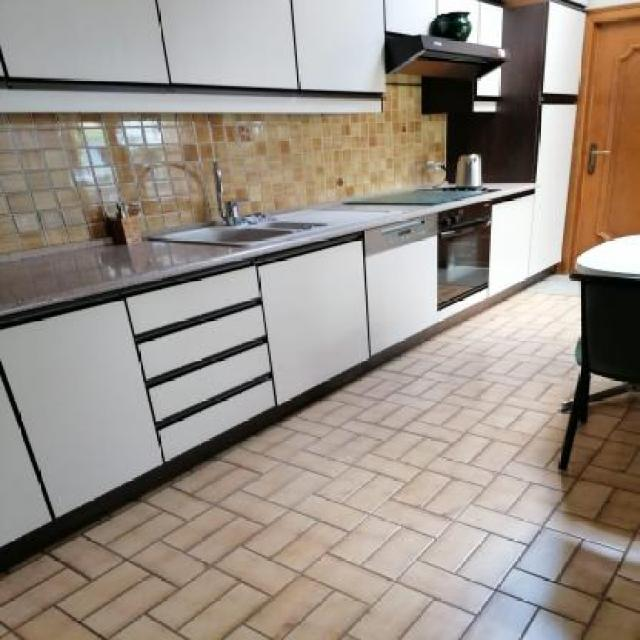Floor: (0, 290, 640, 640), (590, 373, 628, 395)
